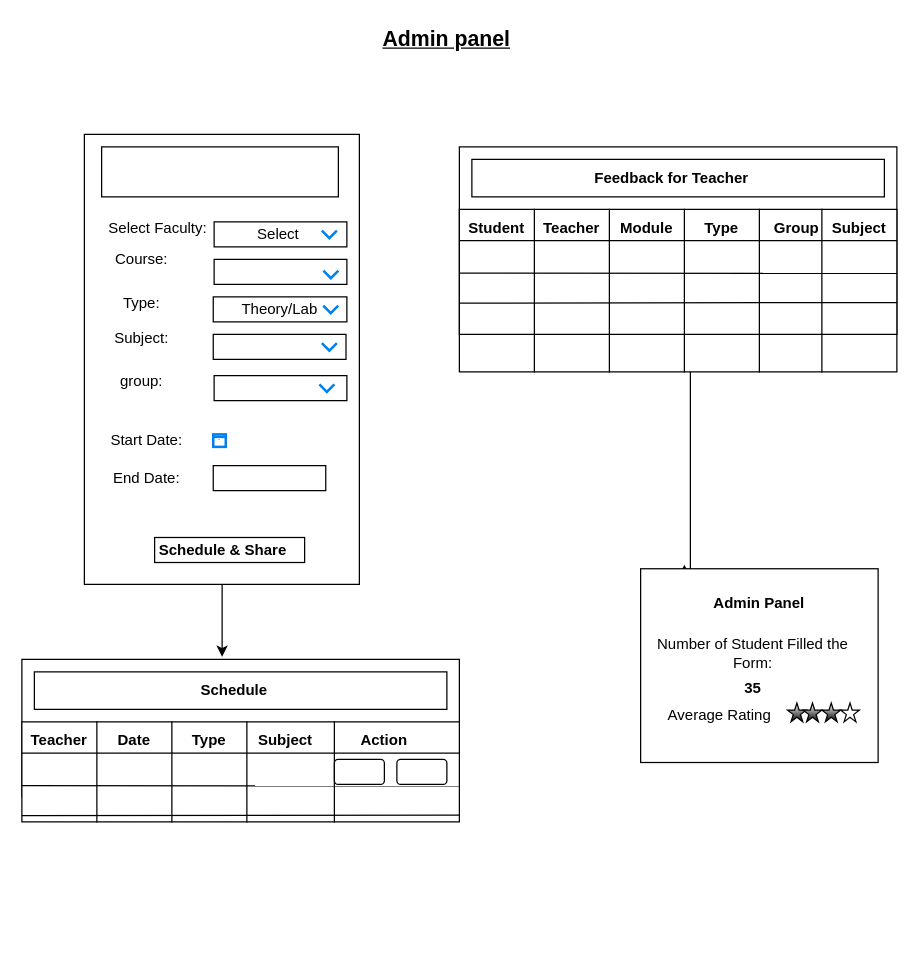
This 920x969 diagram has some shape labels left out. The shapes that lost their labels are listed below. From the top down, each one's centre as x and y in pixels, then its label:
[219,171]: Admin Dashboard
[358,771]: Edit
[421,771]: Delete
